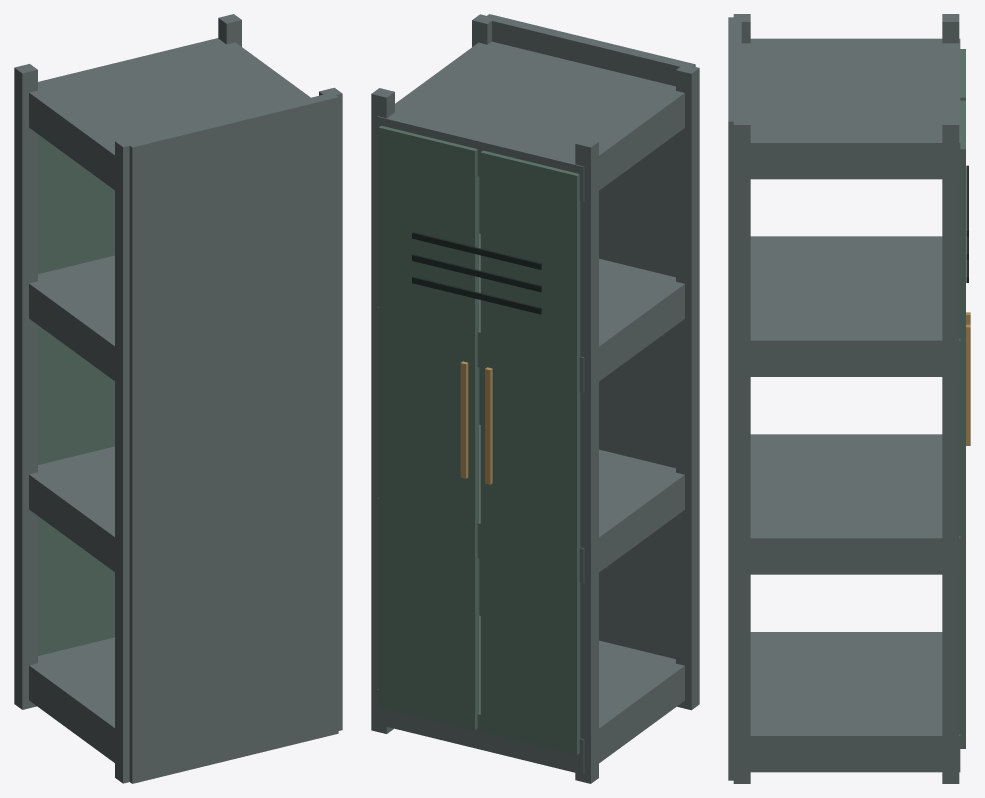
Rendered from LP_Toilet_SupplyCabinet.fbx.
3 views of the same model, side by side, from view 1: azimuth 30°, elevation 25°; view 2: azimuth 150°, elevation 25°; view 3: azimuth 270°, elevation 25° (orthographic). The views are drawn at different scales.
Visible parts, largest first — view 1: M_Museum_BrushedMetal, SageUpholstery; view 2: SageUpholstery, M_Museum_BrushedMetal, Charcoal, AgedBrass; view 3: M_Museum_BrushedMetal, SageUpholstery, AgedBrass.
Part boxes in pixels (left/top/right/bottom): M_Museum_BrushedMetal: left=14, top=14, right=342, bottom=783; SageUpholstery: left=38, top=134, right=114, bottom=655; SageUpholstery: left=378, top=125, right=580, bottom=754; M_Museum_BrushedMetal: left=371, top=14, right=699, bottom=783; Charcoal: left=412, top=232, right=541, bottom=314; AgedBrass: left=460, top=361, right=492, bottom=484; M_Museum_BrushedMetal: left=728, top=14, right=960, bottom=783; SageUpholstery: left=959, top=49, right=965, bottom=748; AgedBrass: left=966, top=312, right=970, bottom=445.
Bounding box in the file's own units: 65 × 180 × 60.
